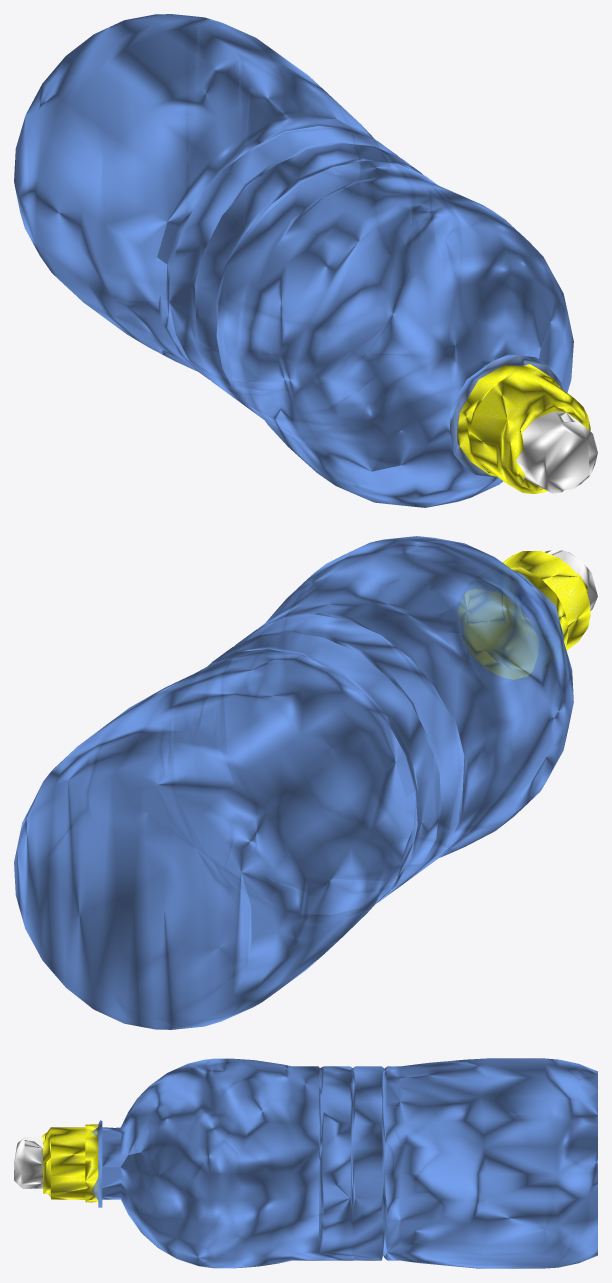
Rendered from model_align.obj.
3 views of the same model, one above another, from view 1: azimuth 30°, elevation 25°; view 2: azimuth 150°, elevation 25°; view 3: azimuth 270°, elevation 25° (orthographic). The views are drawn at different scales.
Size of the model in its own units: 0.054 by 0.0539 by 0.1496.
